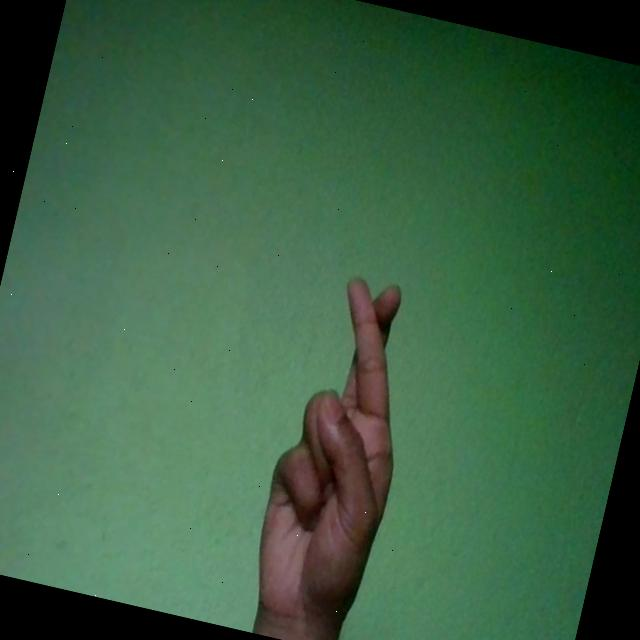Ok: (239, 267, 433, 640)
